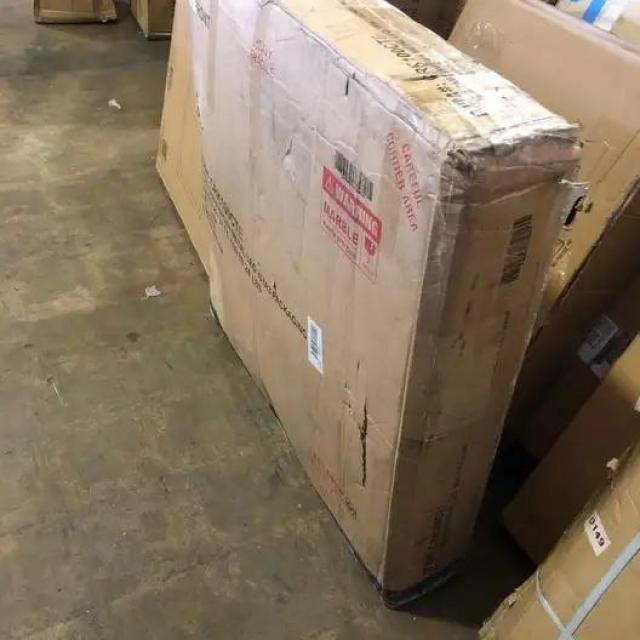cardboard: (155, 0, 581, 612), (452, 0, 640, 436), (479, 435, 640, 640), (505, 328, 640, 570), (119, 0, 176, 42), (30, 0, 129, 24)
